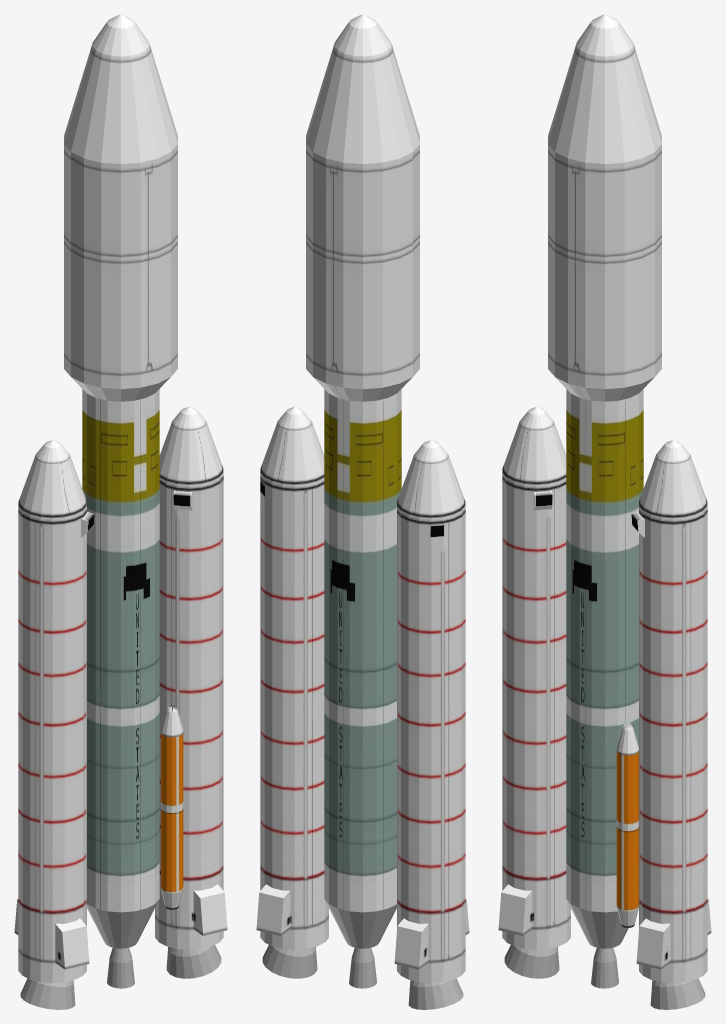
The picture shows the model from 3 angles, left to right: view 1: azimuth 30°, elevation 25°; view 2: azimuth 150°, elevation 25°; view 3: azimuth 330°, elevation 25°; orthographic projection.
Visible parts, largest first — view 1: 3DSMeshMatrix (×4); view 2: 3DSMeshMatrix (×4); view 3: 3DSMeshMatrix (×4).
Part boxes in pixels (x1,y1,x2,y2): 3DSMeshMatrix (×4): (14, 14, 227, 1009); 3DSMeshMatrix (×4): (256, 14, 469, 1009); 3DSMeshMatrix (×4): (498, 14, 711, 1009).
Bounding box in the file's own units: 0.3515 × 1.66 × 0.176.
4 materials, 1 textured.
